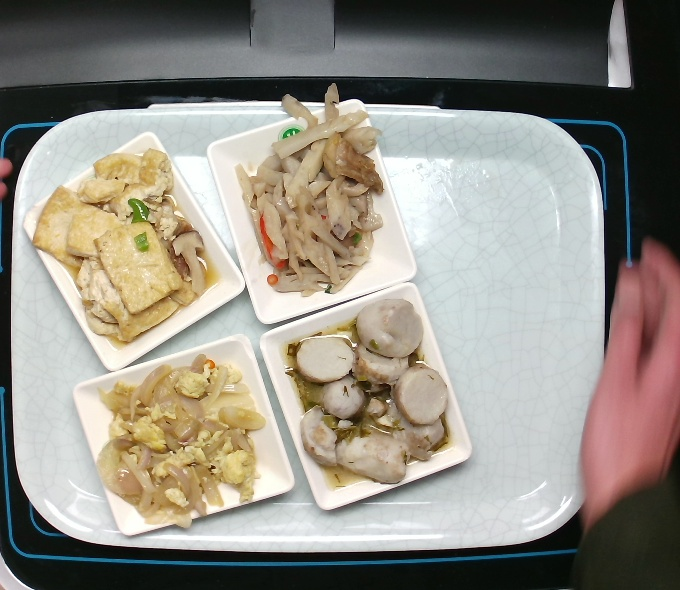wcq-JiaChangDouFu: (31, 147, 214, 347)
wcq-QingChaoOuPian: (229, 76, 395, 304)
wcq-YangCongChaoDan: (89, 347, 269, 532)
wcq-YangYu: (280, 296, 454, 494)
